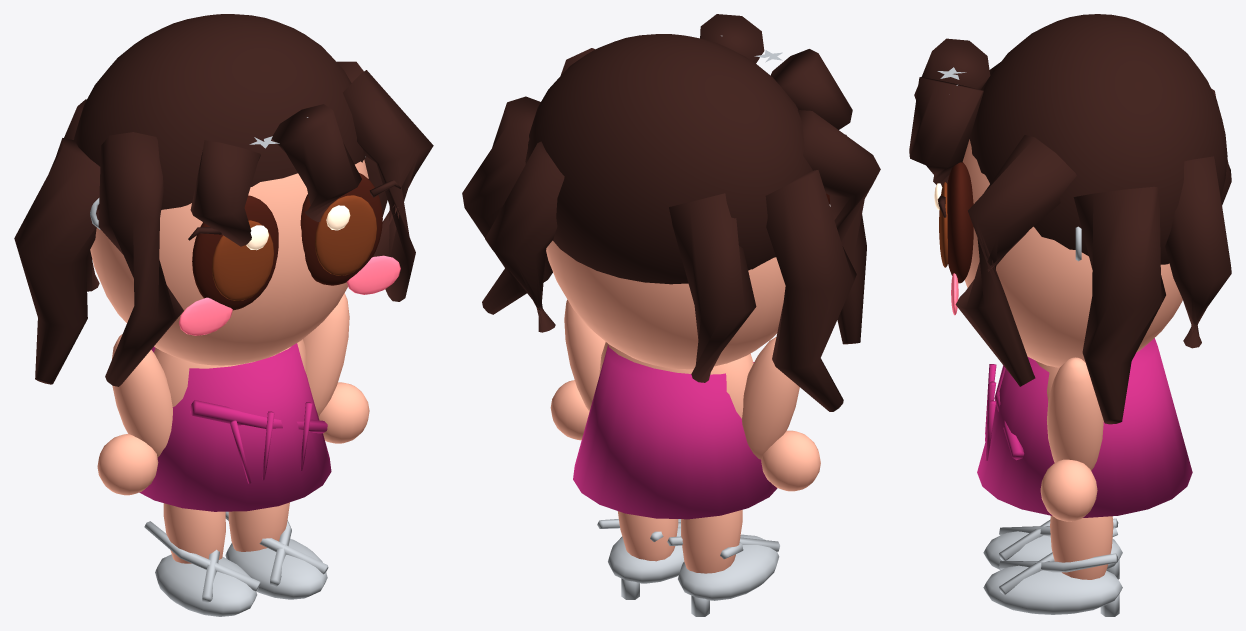
File: chibi_blindbox_girl.glb
3 views of the same model, side by side, from view 1: azimuth 30°, elevation 25°; view 2: azimuth 150°, elevation 25°; view 3: azimuth 270°, elevation 25° (orthographic). The views are drawn at different scales.
Parts seen in each view (by area): view 1: Hair crown cap, Magenta wrap mini dress, Chibi oversized head, Sculpted wavy hair clump 05, Sculpted wavy hair clump 01, Sculpted wavy hair clump 02, Sculpted wavy hair clump 04, Sculpted wavy hair clump 03, Left relaxed arm, Left silver sandal shoe, Right cocoa iris, Right relaxed arm (+17 smaller); view 2: Hair crown cap, Magenta wrap mini dress, Chibi oversized head, Sculpted wavy hair clump 05, Sculpted wavy hair clump 07, Sculpted wavy hair clump 01, Sculpted wavy hair clump 08, Sculpted wavy hair clump 06, Left relaxed arm, Sculpted wavy hair clump 03, Left silver sandal shoe, Left short leg (+7 smaller); view 3: Hair crown cap, Magenta wrap mini dress, Sculpted wavy hair clump 06, Chibi oversized head, Sculpted wavy hair clump 02, Sculpted wavy hair clump 08, Sculpted wavy hair clump 04, Right relaxed arm, Right silver sandal shoe, Right short leg, Right small hand, Right giant glossy eye (+7 smaller).
Boxes of the visible parts, x1,y1,x2,y2 form: Hair crown cap: (74,14,365,210); Magenta wrap mini dress: (139,343,331,511); Chibi oversized head: (90,159,368,365); Sculpted wavy hair clump 05: (14,138,100,384); Sculpted wavy hair clump 01: (98,132,183,386); Sculpted wavy hair clump 02: (343,70,433,301); Sculpted wavy hair clump 04: (272,104,361,221); Sculpted wavy hair clump 03: (190,140,260,246); Left relaxed arm: (112,334,172,457); Left silver sandal shoe: (155,554,257,616); Right cocoa iris: (315,195,376,275); Right relaxed arm: (303,293,349,416); Hair crown cap: (525,34,812,284); Magenta wrap mini dress: (573,345,777,519); Chibi oversized head: (546,240,785,369); Sculpted wavy hair clump 05: (765,170,856,411); Sculpted wavy hair clump 07: (669,193,756,382); Sculpted wavy hair clump 01: (798,110,880,344); Sculpted wavy hair clump 08: (485,141,564,332); Sculpted wavy hair clump 06: (462,96,552,314); Left relaxed arm: (742,337,799,459); Sculpted wavy hair clump 03: (770,49,852,129); Left silver sandal shoe: (678,534,779,600); Left short leg: (681,510,742,573); Hair crown cap: (969,14,1227,264); Magenta wrap mini dress: (977,338,1192,517); Sculpted wavy hair clump 06: (1073,187,1165,424); Chibi oversized head: (962,139,1182,367); Sculpted wavy hair clump 02: (955,135,1076,386); Sculpted wavy hair clump 08: (1165,156,1231,348); Sculpted wavy hair clump 04: (909,77,983,186); Right relaxed arm: (1047,357,1103,470); Right silver sandal shoe: (983,561,1122,614); Right short leg: (1050,515,1113,579); Right small hand: (1040,459,1097,521); Right giant glossy eye: (947,162,973,283).
Bounding box in the file's own units: 0.1415 × 0.197 × 0.1017.
